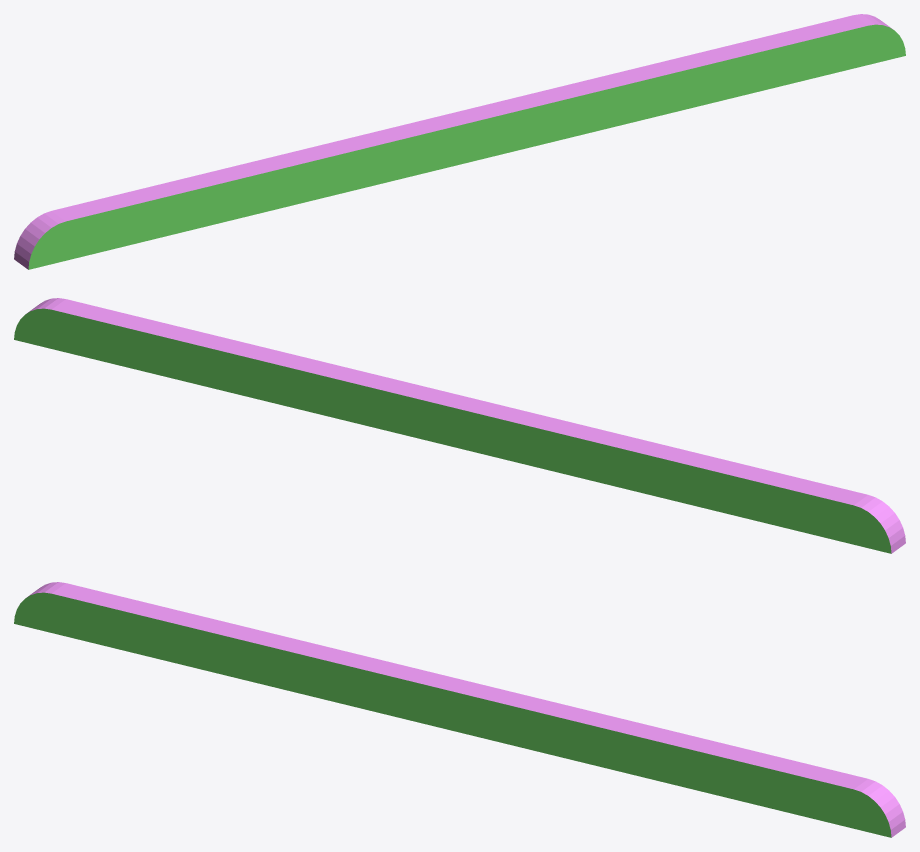
The model's file is ShootableHalfWall.fbx.
3 views of the same model, one above another, from view 1: azimuth 30°, elevation 25°; view 2: azimuth 150°, elevation 25°; view 3: azimuth 330°, elevation 25° (orthographic).
Visible parts, largest first — view 1: ShootableHalfWall; view 2: ShootableHalfWall; view 3: ShootableHalfWall.
Boxes of the visible parts, bbox=[...] form: ShootableHalfWall: bbox=[14, 14, 905, 269]; ShootableHalfWall: bbox=[14, 298, 905, 553]; ShootableHalfWall: bbox=[14, 582, 905, 837].
Size of the model in its own units: 17.5 by 0.75 by 0.5.
